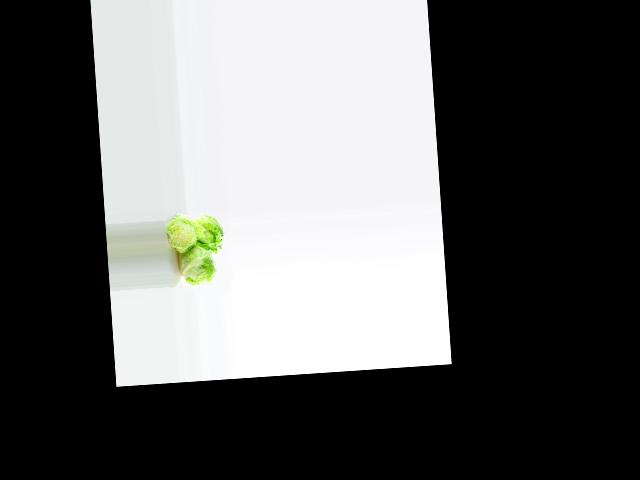lettuce: (191, 212, 228, 257)
